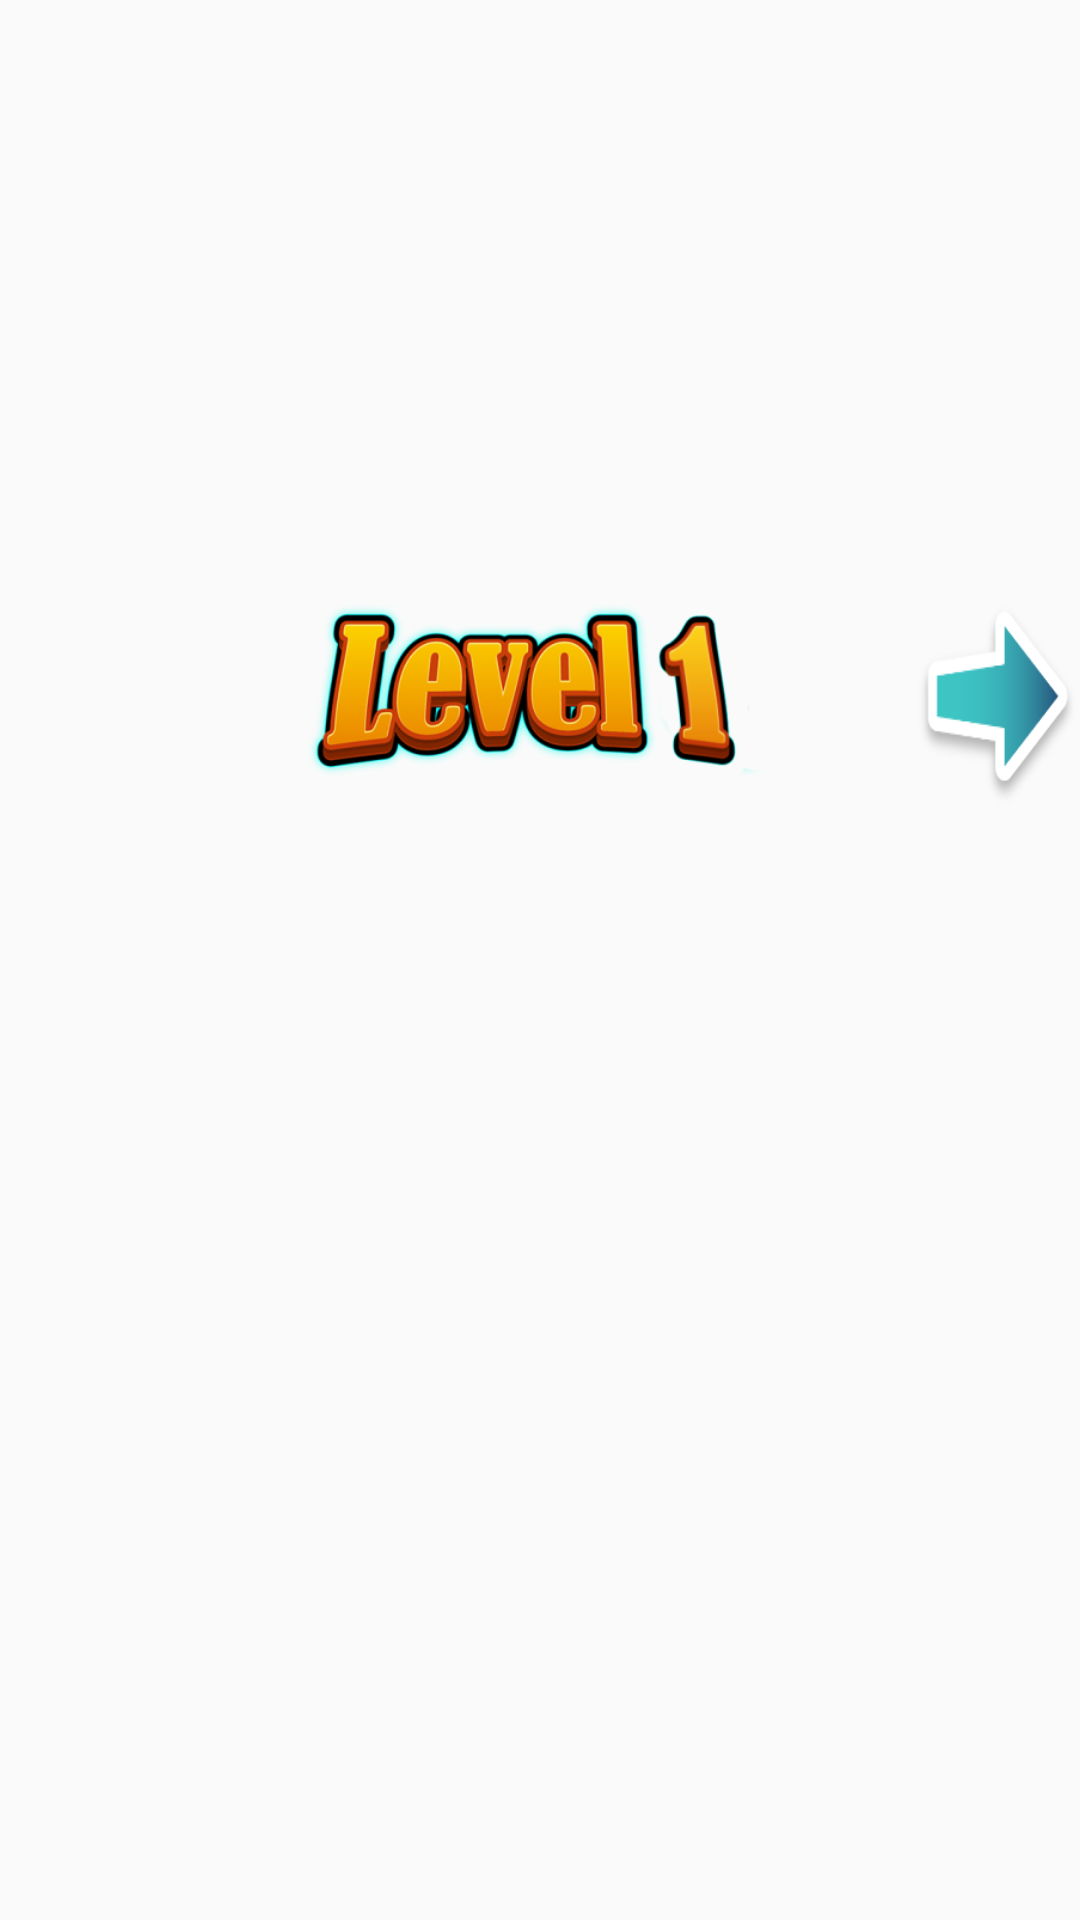

Point at icon controls on the screen. Image size 1080 x 1920, points as point (x, y).
arrow right: point (997, 709)
